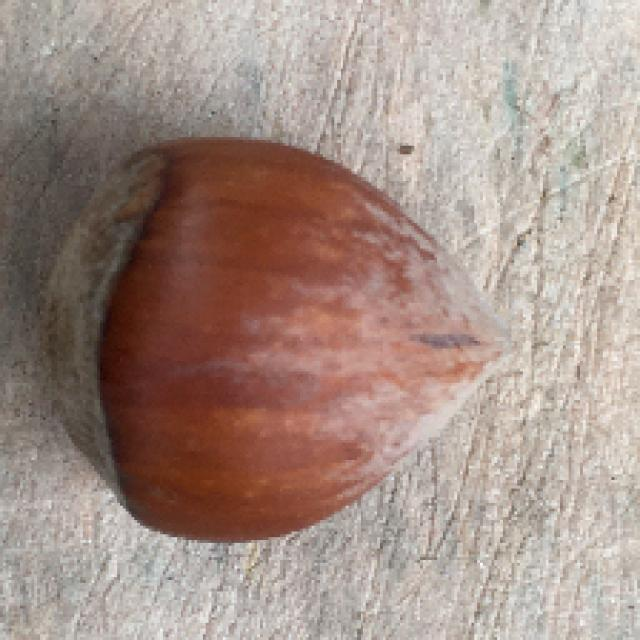qualityHazelnut: (22, 132, 509, 550)
